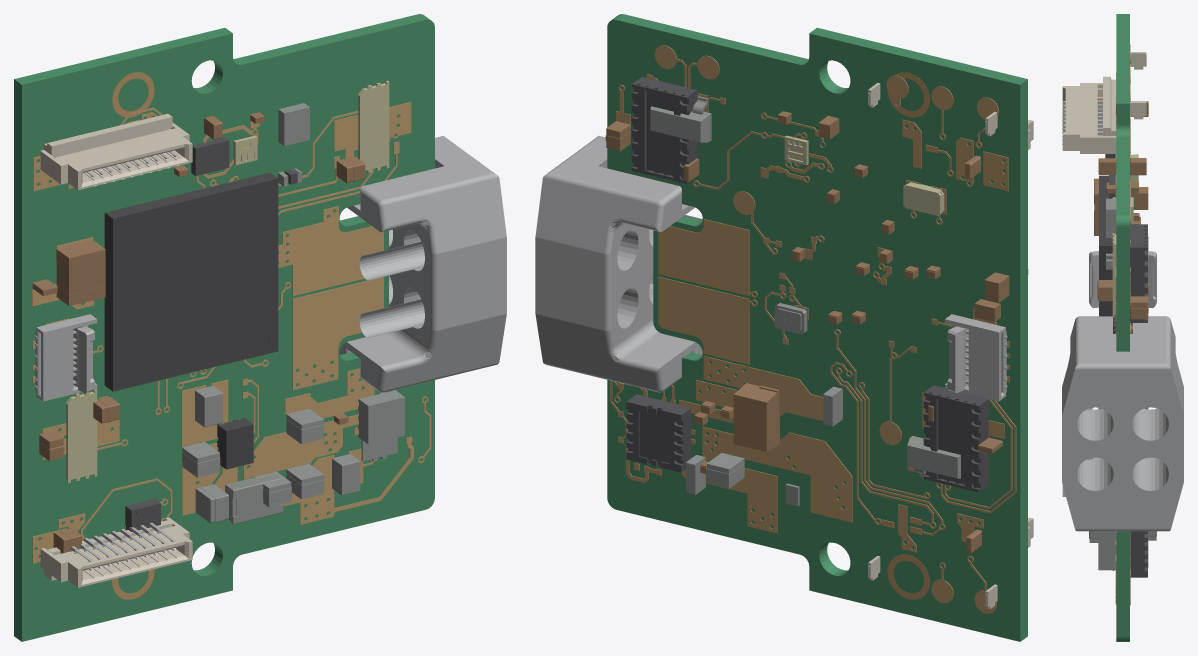
The model's file is assembly.glb.
The picture shows the model from 3 angles, left to right: view 1: azimuth 30°, elevation 25°; view 2: azimuth 150°, elevation 25°; view 3: azimuth 270°, elevation 25°; orthographic projection. The views are drawn at different scales.
Parts seen in each view (by area): view 1: board, ic_mcu, ic_shield, copper, mechanics, connectors, passives, xtal_led, pins, ic_other, pads; view 2: board, copper, ic_shield, ic_other, passives, mechanics, xtal_led, pads, connectors; view 3: ic_shield, board, connectors, passives, ic_other, mechanics, ic_mcu, copper, xtal_led, pins.
Part boxes in pixels (x1=…): board: x1=14, y1=14, x2=434, y2=641; ic_mcu: x1=104, y1=172, x2=278, y2=469; ic_shield: x1=35, y1=136, x2=506, y2=401; copper: x1=32, y1=102, x2=431, y2=563; mechanics: x1=182, y1=103, x2=404, y2=524; connectors: x1=40, y1=113, x2=192, y2=587; passives: x1=32, y1=112, x2=365, y2=553; xtal_led: x1=66, y1=80, x2=389, y2=483; pins: x1=71, y1=151, x2=424, y2=571; ic_other: x1=125, y1=137, x2=299, y2=531; pads: x1=112, y1=72, x2=154, y2=599; board: x1=607, y1=14, x2=1027, y2=641; copper: x1=610, y1=45, x2=1016, y2=613; ic_shield: x1=535, y1=136, x2=1007, y2=401; ic_other: x1=626, y1=76, x2=988, y2=492; passives: x1=605, y1=111, x2=1028, y2=553; mechanics: x1=650, y1=96, x2=960, y2=506; xtal_led: x1=784, y1=135, x2=944, y2=215; pads: x1=887, y1=72, x2=929, y2=599; connectors: x1=868, y1=83, x2=1033, y2=609; ic_shield: x1=1062, y1=251, x2=1183, y2=531; board: x1=1116, y1=14, x2=1129, y2=641; connectors: x1=1062, y1=52, x2=1146, y2=496; passives: x1=1094, y1=98, x2=1148, y2=333; ic_other: x1=1105, y1=154, x2=1147, y2=577; mechanics: x1=1089, y1=198, x2=1156, y2=570; ic_mcu: x1=1099, y1=176, x2=1115, y2=333; copper: x1=1115, y1=44, x2=1130, y2=605; xtal_led: x1=1112, y1=154, x2=1138, y2=317; pins: x1=1062, y1=100, x2=1102, y2=461.
Size of the model in its own units: 0.0247 by 0.029 by 0.0066.
